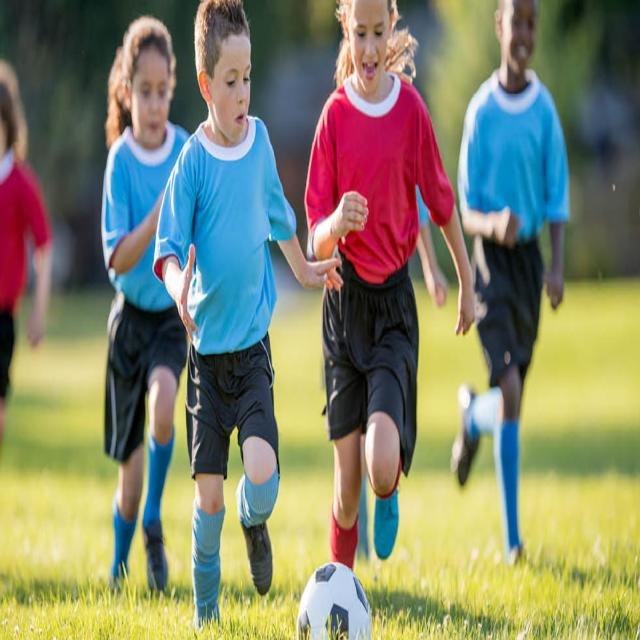soccer ball: (298, 563, 372, 640)
